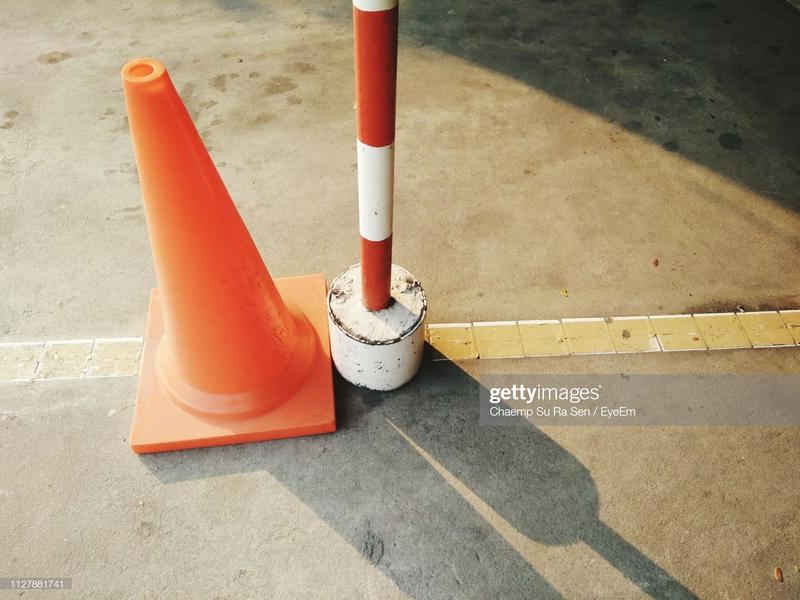Cone: (119, 59, 336, 455)
